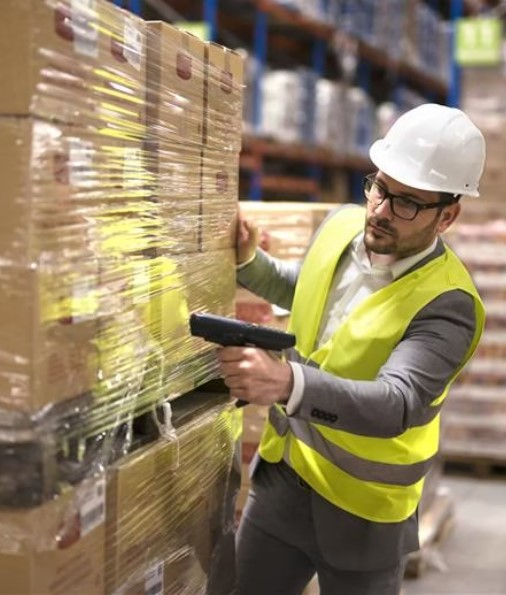worker: (259, 104, 473, 522)
